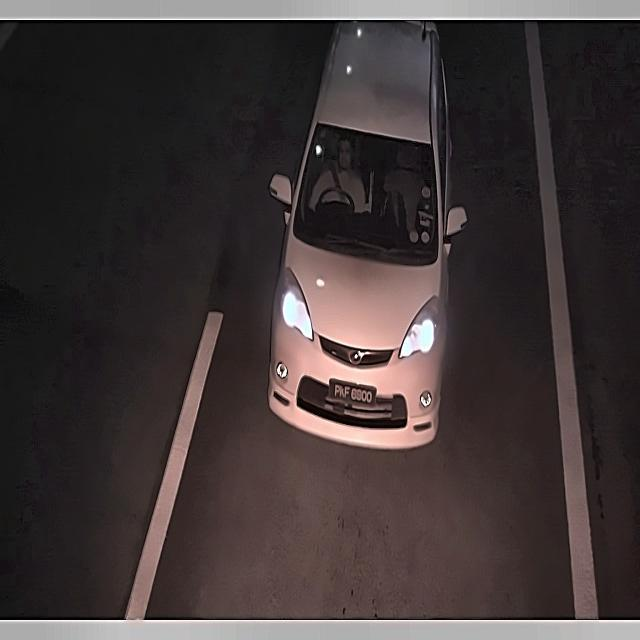car: (325, 376, 377, 412)
